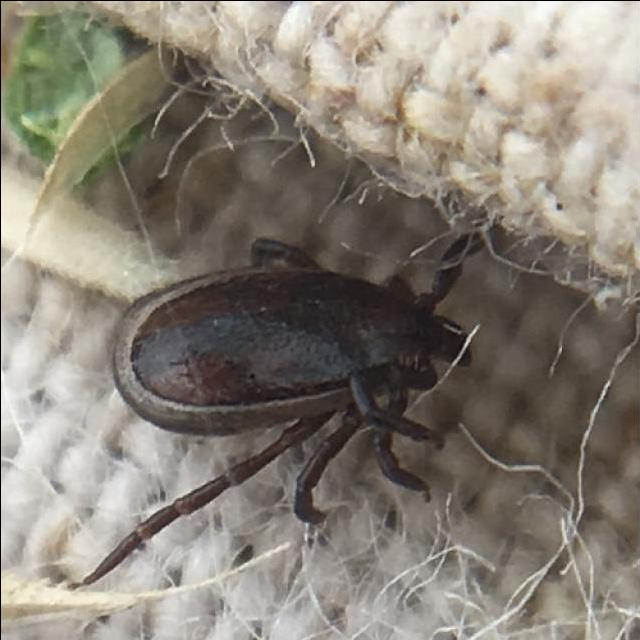Ixodes Ricinus-M: (81, 231, 481, 586)
